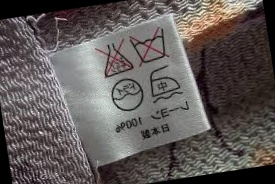DN_bleach: (94, 39, 132, 78)
DN_wash: (128, 27, 172, 66)
dry_clean: (108, 76, 148, 115)
iron: (145, 62, 185, 105)
